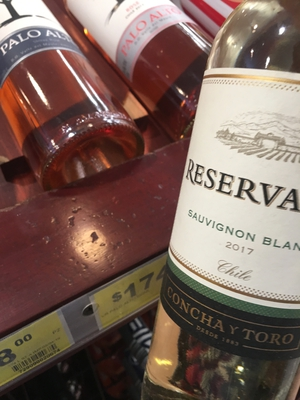reservado sauvignon blanc: (155, 42, 300, 373)
